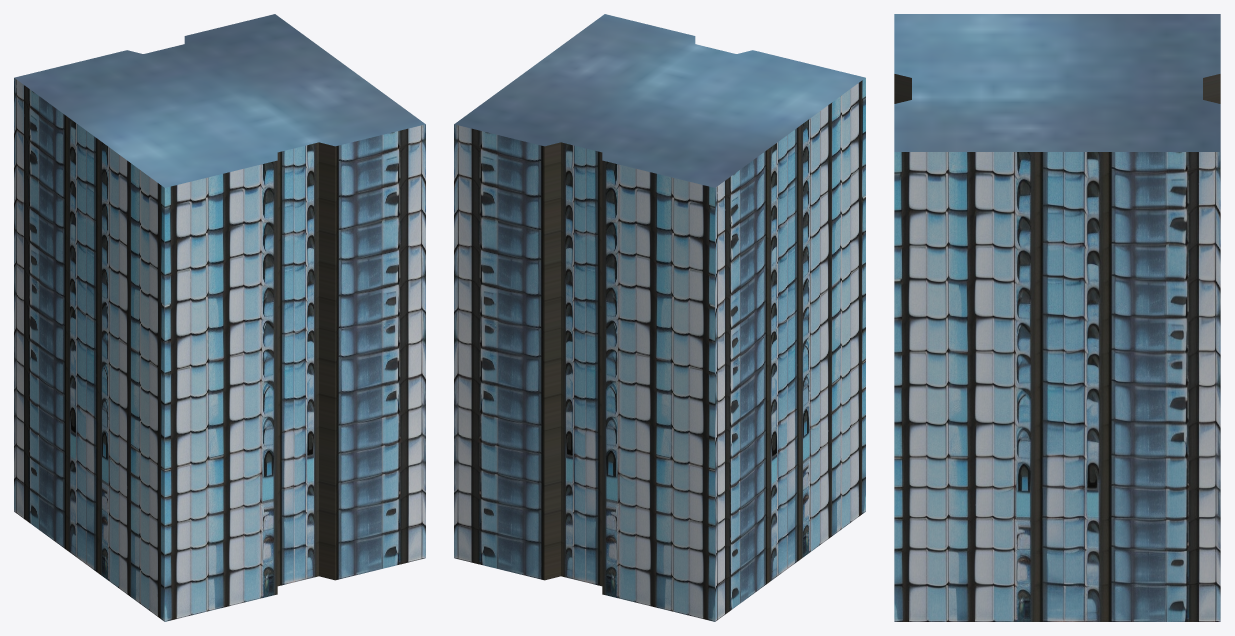
3 views of the same model, side by side, from view 1: azimuth 30°, elevation 25°; view 2: azimuth 150°, elevation 25°; view 3: azimuth 270°, elevation 25° (orthographic). The views are drawn at different scales.
Visible parts, largest first — view 1: B3; view 2: B3; view 3: B3.
Part boxes in pixels (x1,y1,x2,y2): B3: (14,14,425,621); B3: (454,14,865,621); B3: (894,14,1220,621).
Size of the model in its own units: 821 by 1304 by 821.
1 material, 1 textured.
